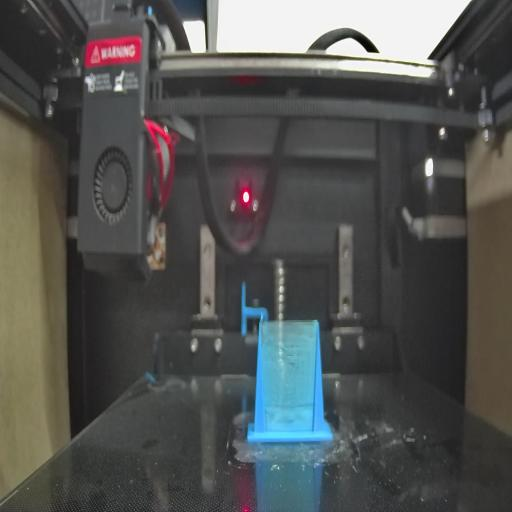stringing: (259, 322, 317, 429)
